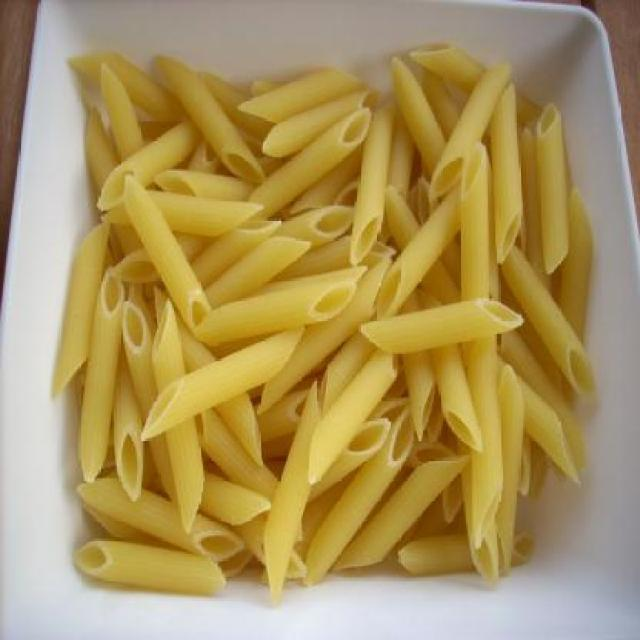Oil pasta: (49, 50, 632, 616)
